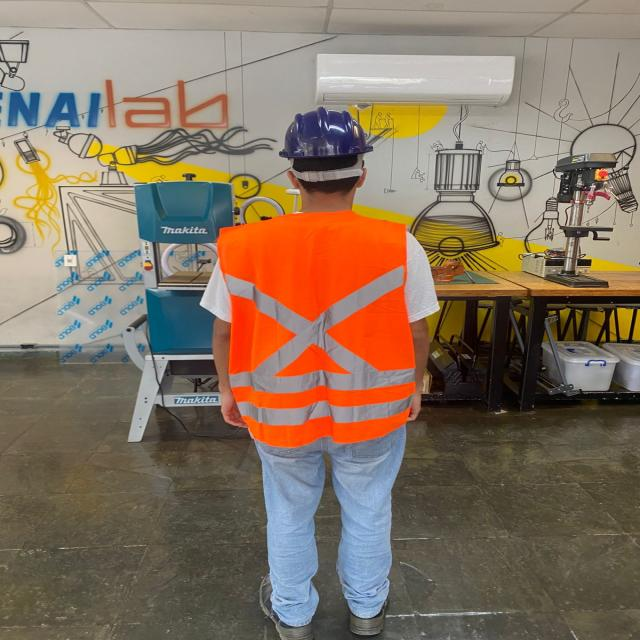BOTA: (261, 570, 320, 640), (342, 574, 386, 636)
CAPACETE: (275, 111, 379, 183)
COLETE: (213, 208, 413, 449)
SEM LUVA: (213, 387, 258, 431), (405, 381, 430, 426)
